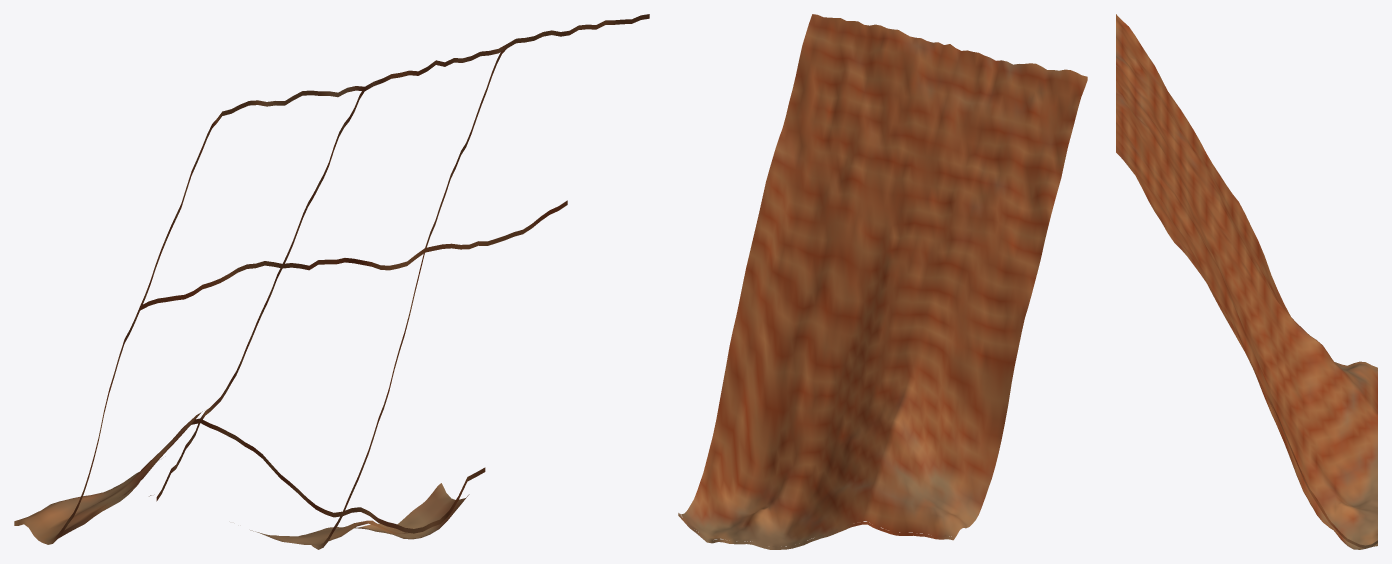
The model's file is terrain-164.glb.
3 renders of one model, left to right at view 1: azimuth 30°, elevation 25°; view 2: azimuth 150°, elevation 25°; view 3: azimuth 270°, elevation 25°, orthographic. The views are drawn at different scales.
Parts seen in each view (by area): view 1: terrain-164; view 2: terrain-164; view 3: terrain-164.
Boxes of the visible parts, box(x1,y1,x2,y2) form: terrain-164: box(14, 14, 649, 549); terrain-164: box(678, 14, 1087, 549); terrain-164: box(1116, 14, 1377, 549).
Bounding box in the file's own units: 384 × 573 × 324.
